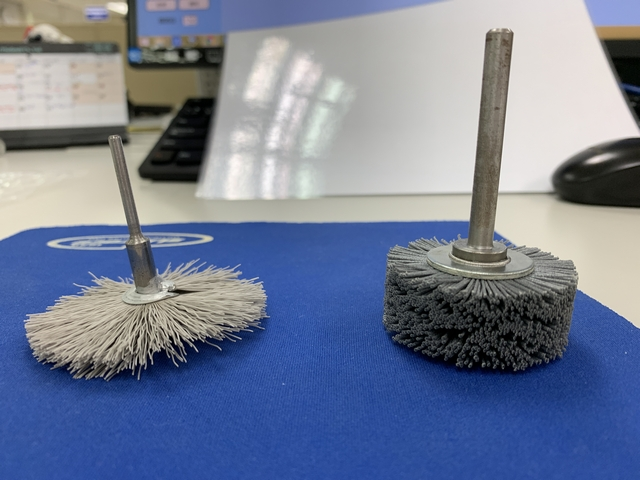TOOL: (18, 133, 288, 390), (37, 133, 253, 338), (81, 150, 249, 362)
Wheel Brush: (354, 19, 599, 374), (397, 23, 585, 358), (394, 39, 579, 373), (430, 31, 600, 352)
